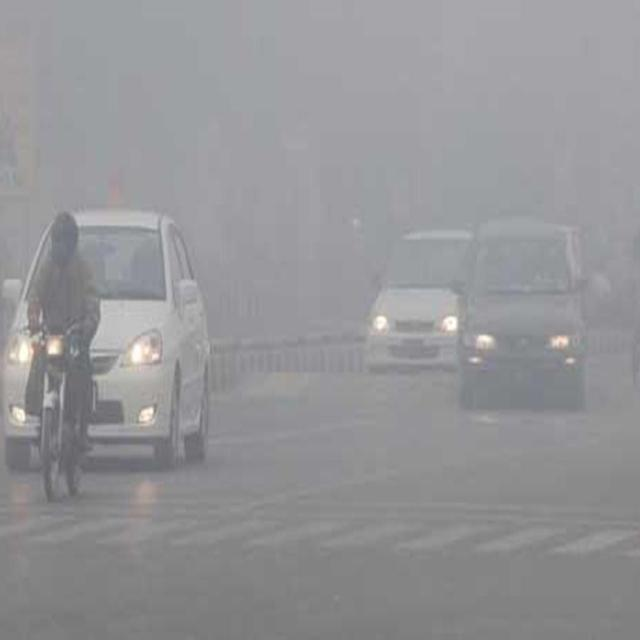Car: (3, 198, 214, 454), (461, 214, 588, 420), (368, 218, 468, 362)
Cycle: (30, 214, 98, 505)
